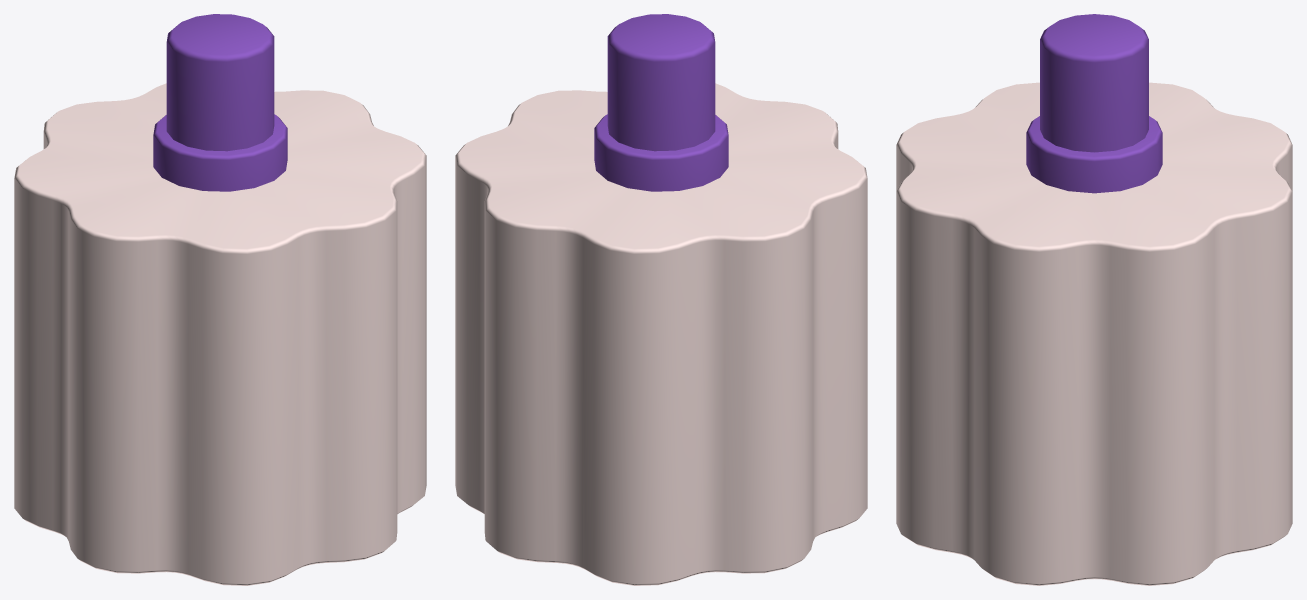
Rendered from Public_15_Bottle_3.glb.
3 views of the same model, side by side, from view 1: azimuth 30°, elevation 25°; view 2: azimuth 150°, elevation 25°; view 3: azimuth 270°, elevation 25° (orthographic).
Visible parts, largest first — view 1: Public_15_Bottle_3; view 2: Public_15_Bottle_3; view 3: Public_15_Bottle_3.
Boxes of the visible parts, <box> form: Public_15_Bottle_3: <box>14,14,426,585</box>; Public_15_Bottle_3: <box>455,14,867,585</box>; Public_15_Bottle_3: <box>896,14,1292,585</box>.
Bounding box in the file's own units: 1.44 × 1.88 × 1.44.
1 material, 1 textured.
